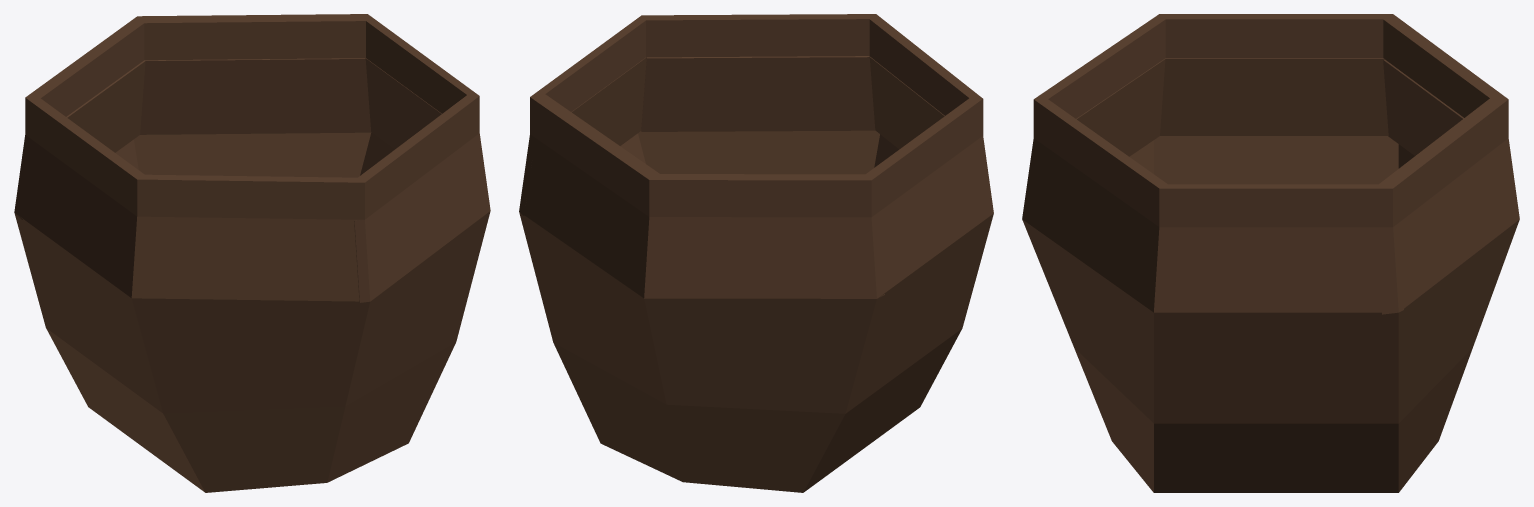
File: cc_brown_bowl1.fbx
3 renders of one model, left to right at view 1: azimuth 30°, elevation 25°; view 2: azimuth 150°, elevation 25°; view 3: azimuth 270°, elevation 25°, orthographic. The views are drawn at different scales.
Parts seen in each view (by area): view 1: Cube; view 2: Cube; view 3: Cube.
Part boxes in pixels (bbox=[...]): Cube: bbox=[14, 14, 490, 492]; Cube: bbox=[519, 14, 993, 492]; Cube: bbox=[1022, 14, 1519, 492].
Size of the model in its own units: 353 by 308 by 406.
